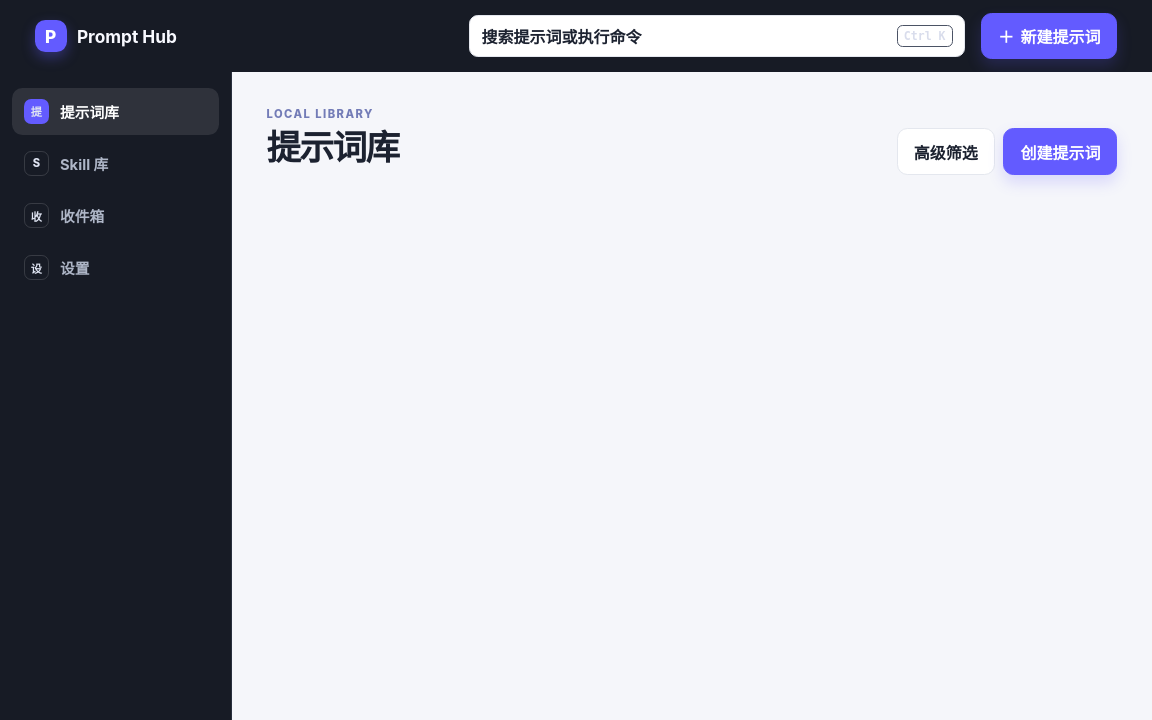
App › opens the Skill library from primary navigation
Click the link "S Skill 库": (66, 163) [24, 151, 108, 176]
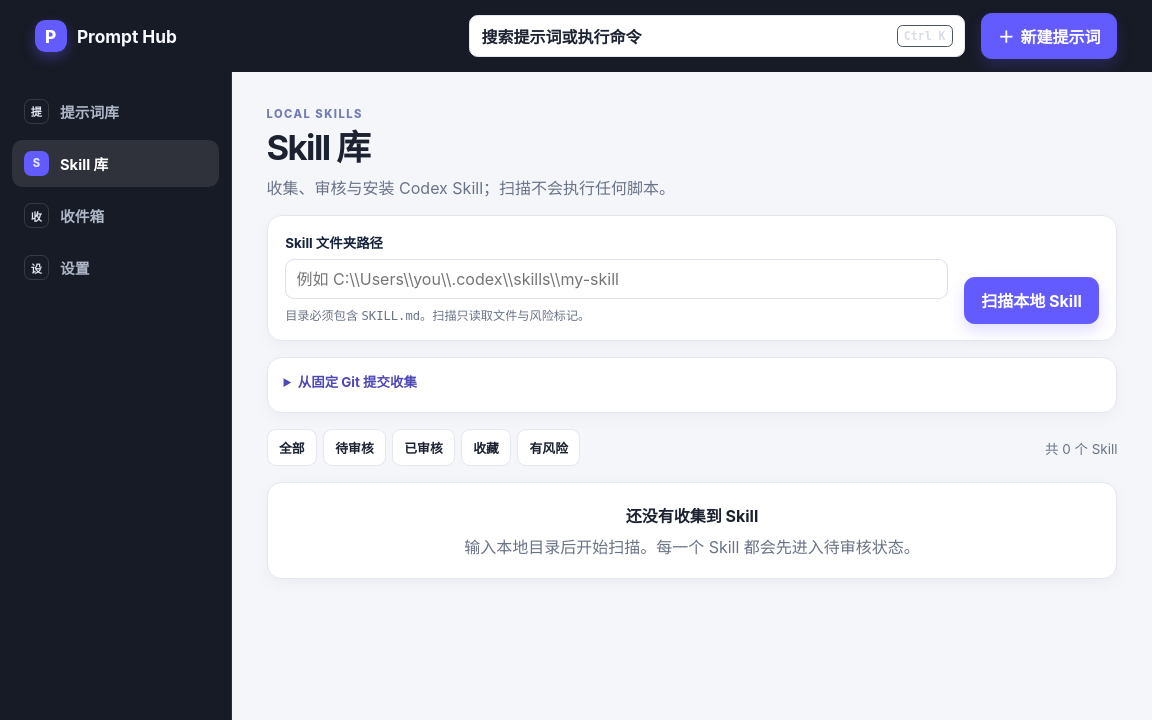
Check: the heading "Skill 库" is shown, box [266, 127, 369, 168]
